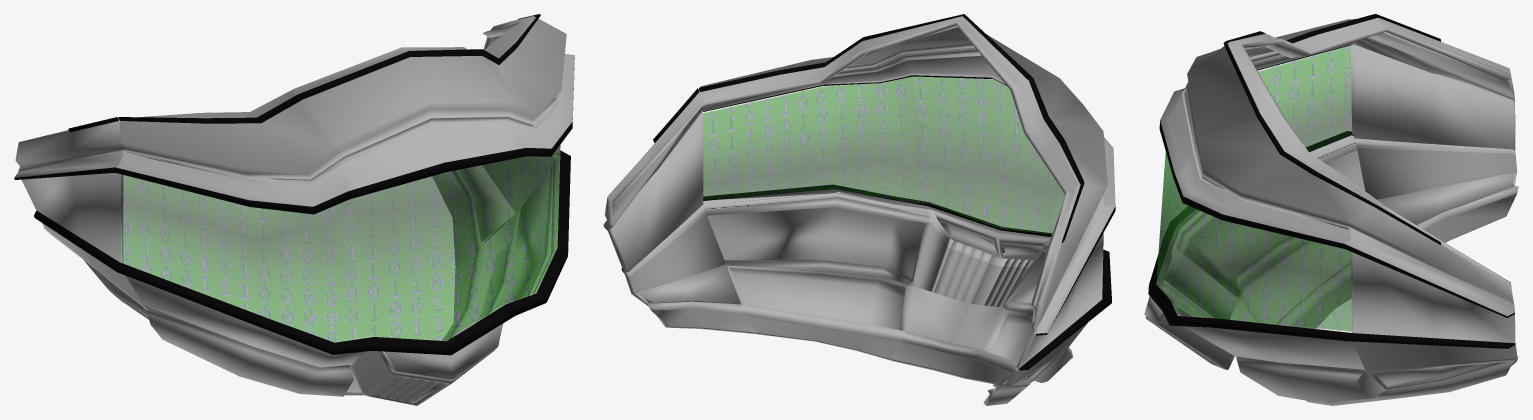
The model's file is mask.glb.
3 views of the same model, side by side, from view 1: azimuth 30°, elevation 25°; view 2: azimuth 150°, elevation 25°; view 3: azimuth 270°, elevation 25° (orthographic). The views are drawn at different scales.
Visible parts, largest first — view 1: Plane; view 2: Plane; view 3: Plane.
Boxes of the visible parts, box(x1,y1,x2,y2) form: Plane: box(14, 14, 574, 405); Plane: box(603, 14, 1115, 405); Plane: box(1144, 14, 1518, 405).
Size of the model in its own units: 3.02 by 2.18 by 2.17.
4 materials, 1 textured.
